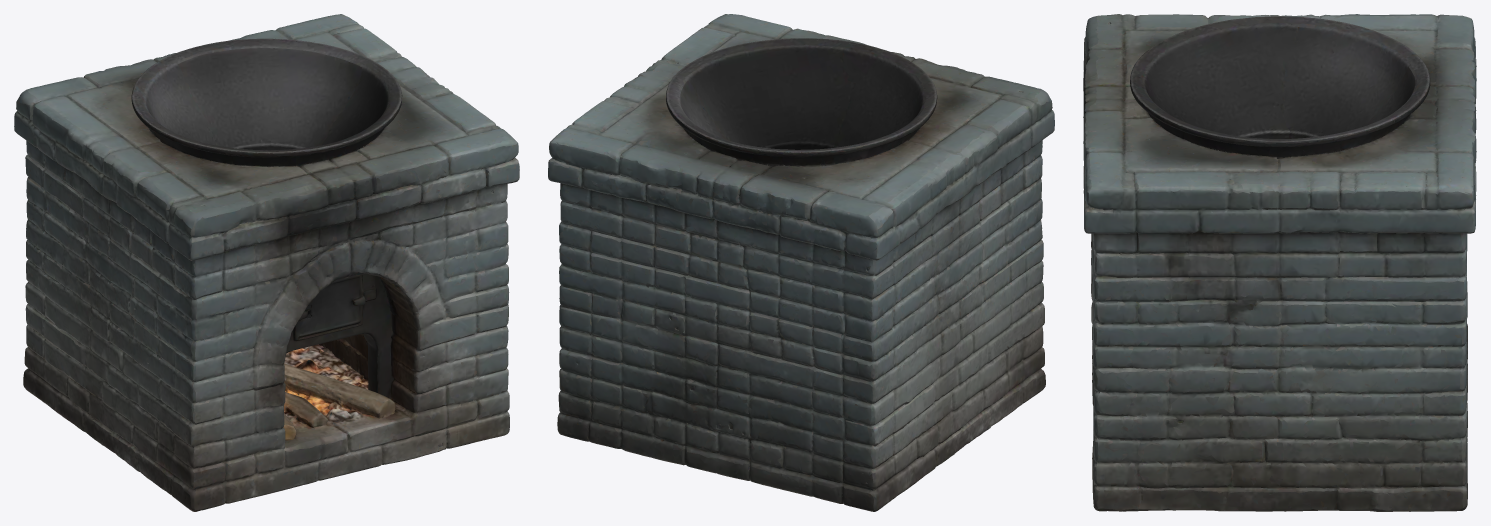
File: 01_zao.glb
The picture shows the model from 3 angles, left to right: view 1: azimuth 30°, elevation 25°; view 2: azimuth 150°, elevation 25°; view 3: azimuth 270°, elevation 25°; orthographic projection. The views are drawn at different scales.
Visible parts, largest first — view 1: geometry_0; view 2: geometry_0; view 3: geometry_0.
Boxes of the visible parts, box(x1,y1,x2,y2) form: geometry_0: box(14, 14, 519, 511); geometry_0: box(548, 14, 1054, 511); geometry_0: box(1083, 14, 1476, 511).
Size of the model in its own units: 0.8 by 0.7359 by 0.7487.
1 material, 1 textured.
